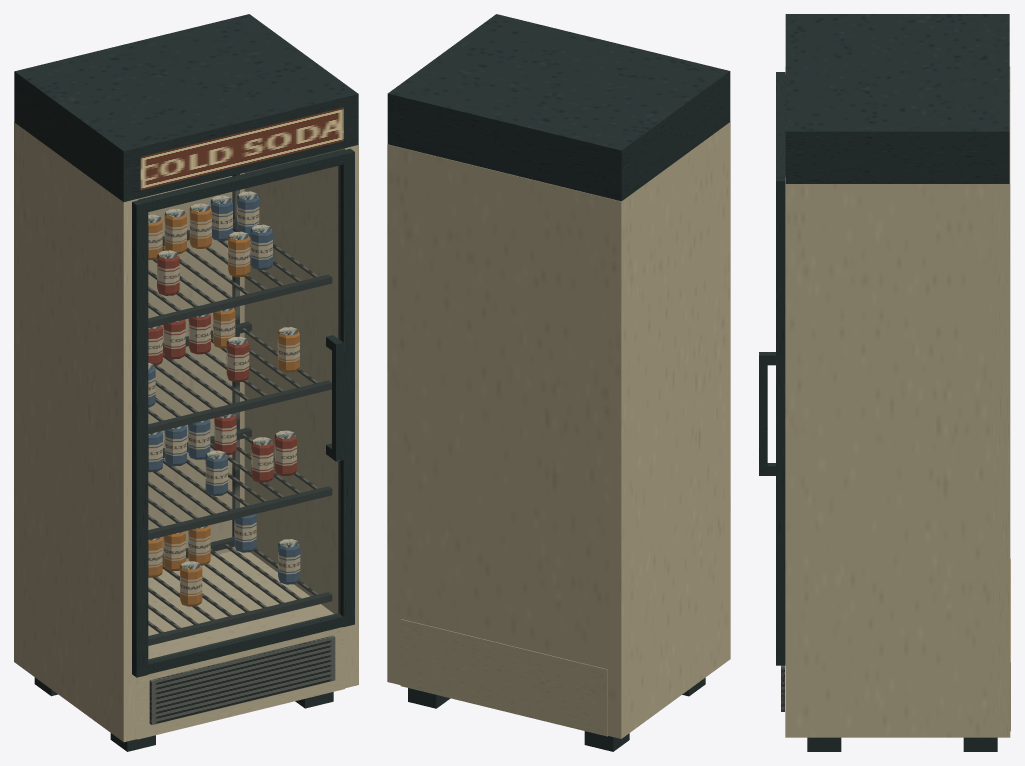
The model's file is SodaCooler.fbx.
3 views of the same model, side by side, from view 1: azimuth 30°, elevation 25°; view 2: azimuth 150°, elevation 25°; view 3: azimuth 270°, elevation 25° (orthographic). The views are drawn at different scales.
Parts seen in each view (by area): view 1: SodaCooler_Body, SodaCooler_Glass; view 2: SodaCooler_Body; view 3: SodaCooler_Body.
Boxes of the visible parts, box(x1,y1,x2,y2) form: SodaCooler_Body: box(14, 14, 358, 751); SodaCooler_Glass: box(148, 166, 340, 660); SodaCooler_Body: box(387, 14, 730, 751); SodaCooler_Body: box(759, 14, 1010, 751).
Bounding box in the file's own units: 82 × 204 × 74.2.
